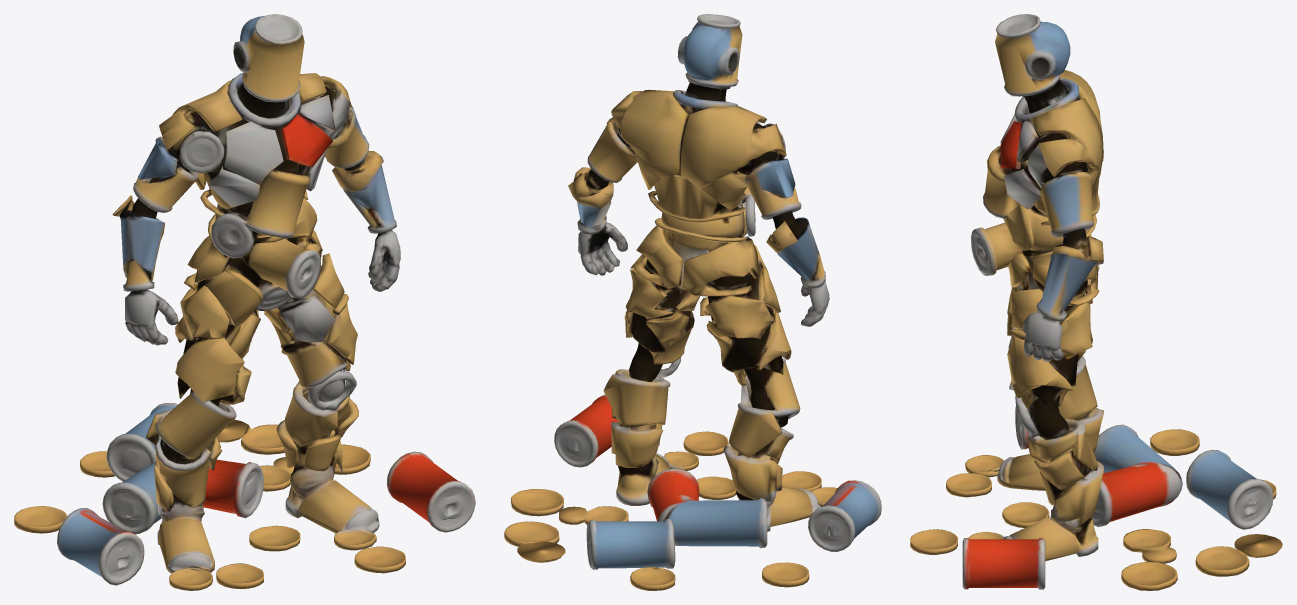
File: Tin_Man_2.glb
The picture shows the model from 3 angles, left to right: view 1: azimuth 30°, elevation 25°; view 2: azimuth 150°, elevation 25°; view 3: azimuth 270°, elevation 25°; orthographic projection. The views are drawn at different scales.
Parts seen in each view (by area): view 1: material; view 2: material; view 3: material.
Part boxes in pixels (x1,y1,x2,y2): material: (14, 14, 475, 590); material: (504, 14, 881, 590); material: (910, 14, 1282, 590).
Size of the model in its own units: 1.34 by 1.9 by 1.28.
1 material, 1 textured.
